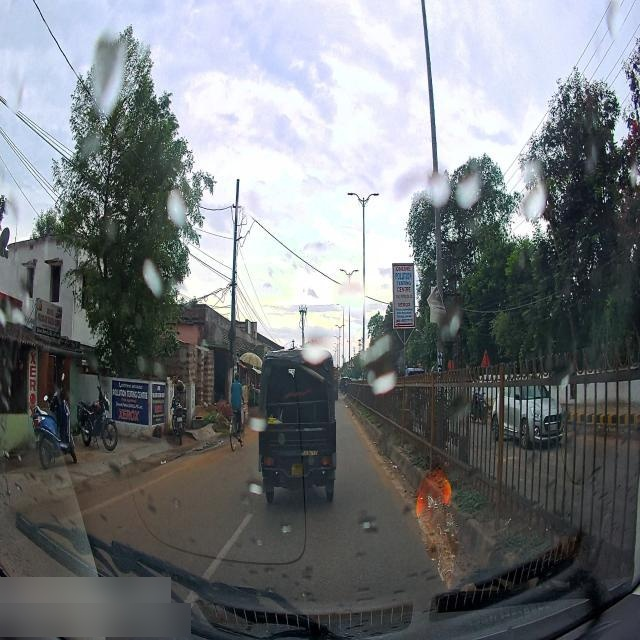pothole: (166, 434, 227, 460)
